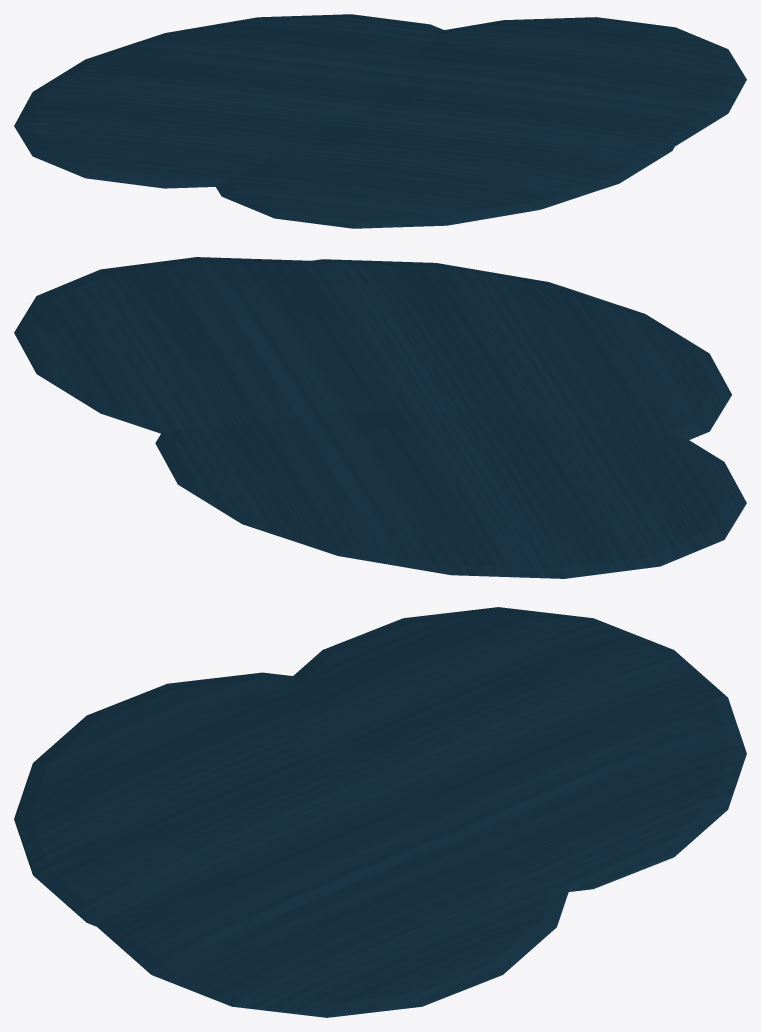
Rendered from PROP-B23E778664CA_lod0.glb.
3 views of the same model, one above another, from view 1: azimuth 30°, elevation 25°; view 2: azimuth 150°, elevation 25°; view 3: azimuth 270°, elevation 25° (orthographic). The views are drawn at different scales.
Visible parts, largest first — view 1: surface_hazard.007; view 2: surface_hazard.007; view 3: surface_hazard.007.
Boxes of the visible parts, left/top/right/bottom form: surface_hazard.007: left=14, top=14, right=746, bottom=228; surface_hazard.007: left=14, top=257, right=746, bottom=578; surface_hazard.007: left=14, top=607, right=746, bottom=1017.
Size of the model in its own units: 1.67 by 0.036 by 1.26.
1 material, 1 textured.
